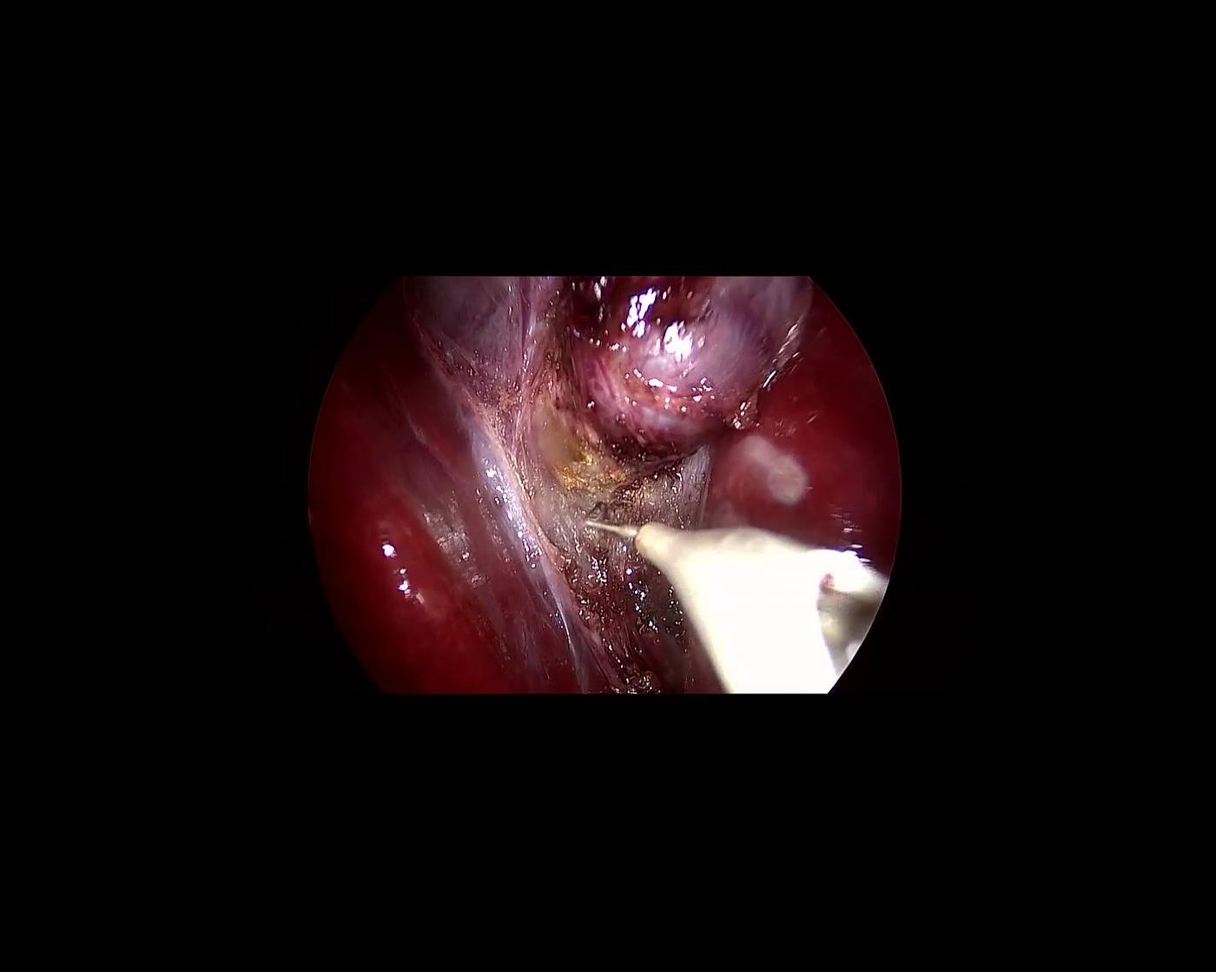Cautery: (541, 464, 885, 728)
Gallbladder: (413, 279, 809, 455)
Liver: (219, 298, 603, 785), (651, 277, 956, 735)
